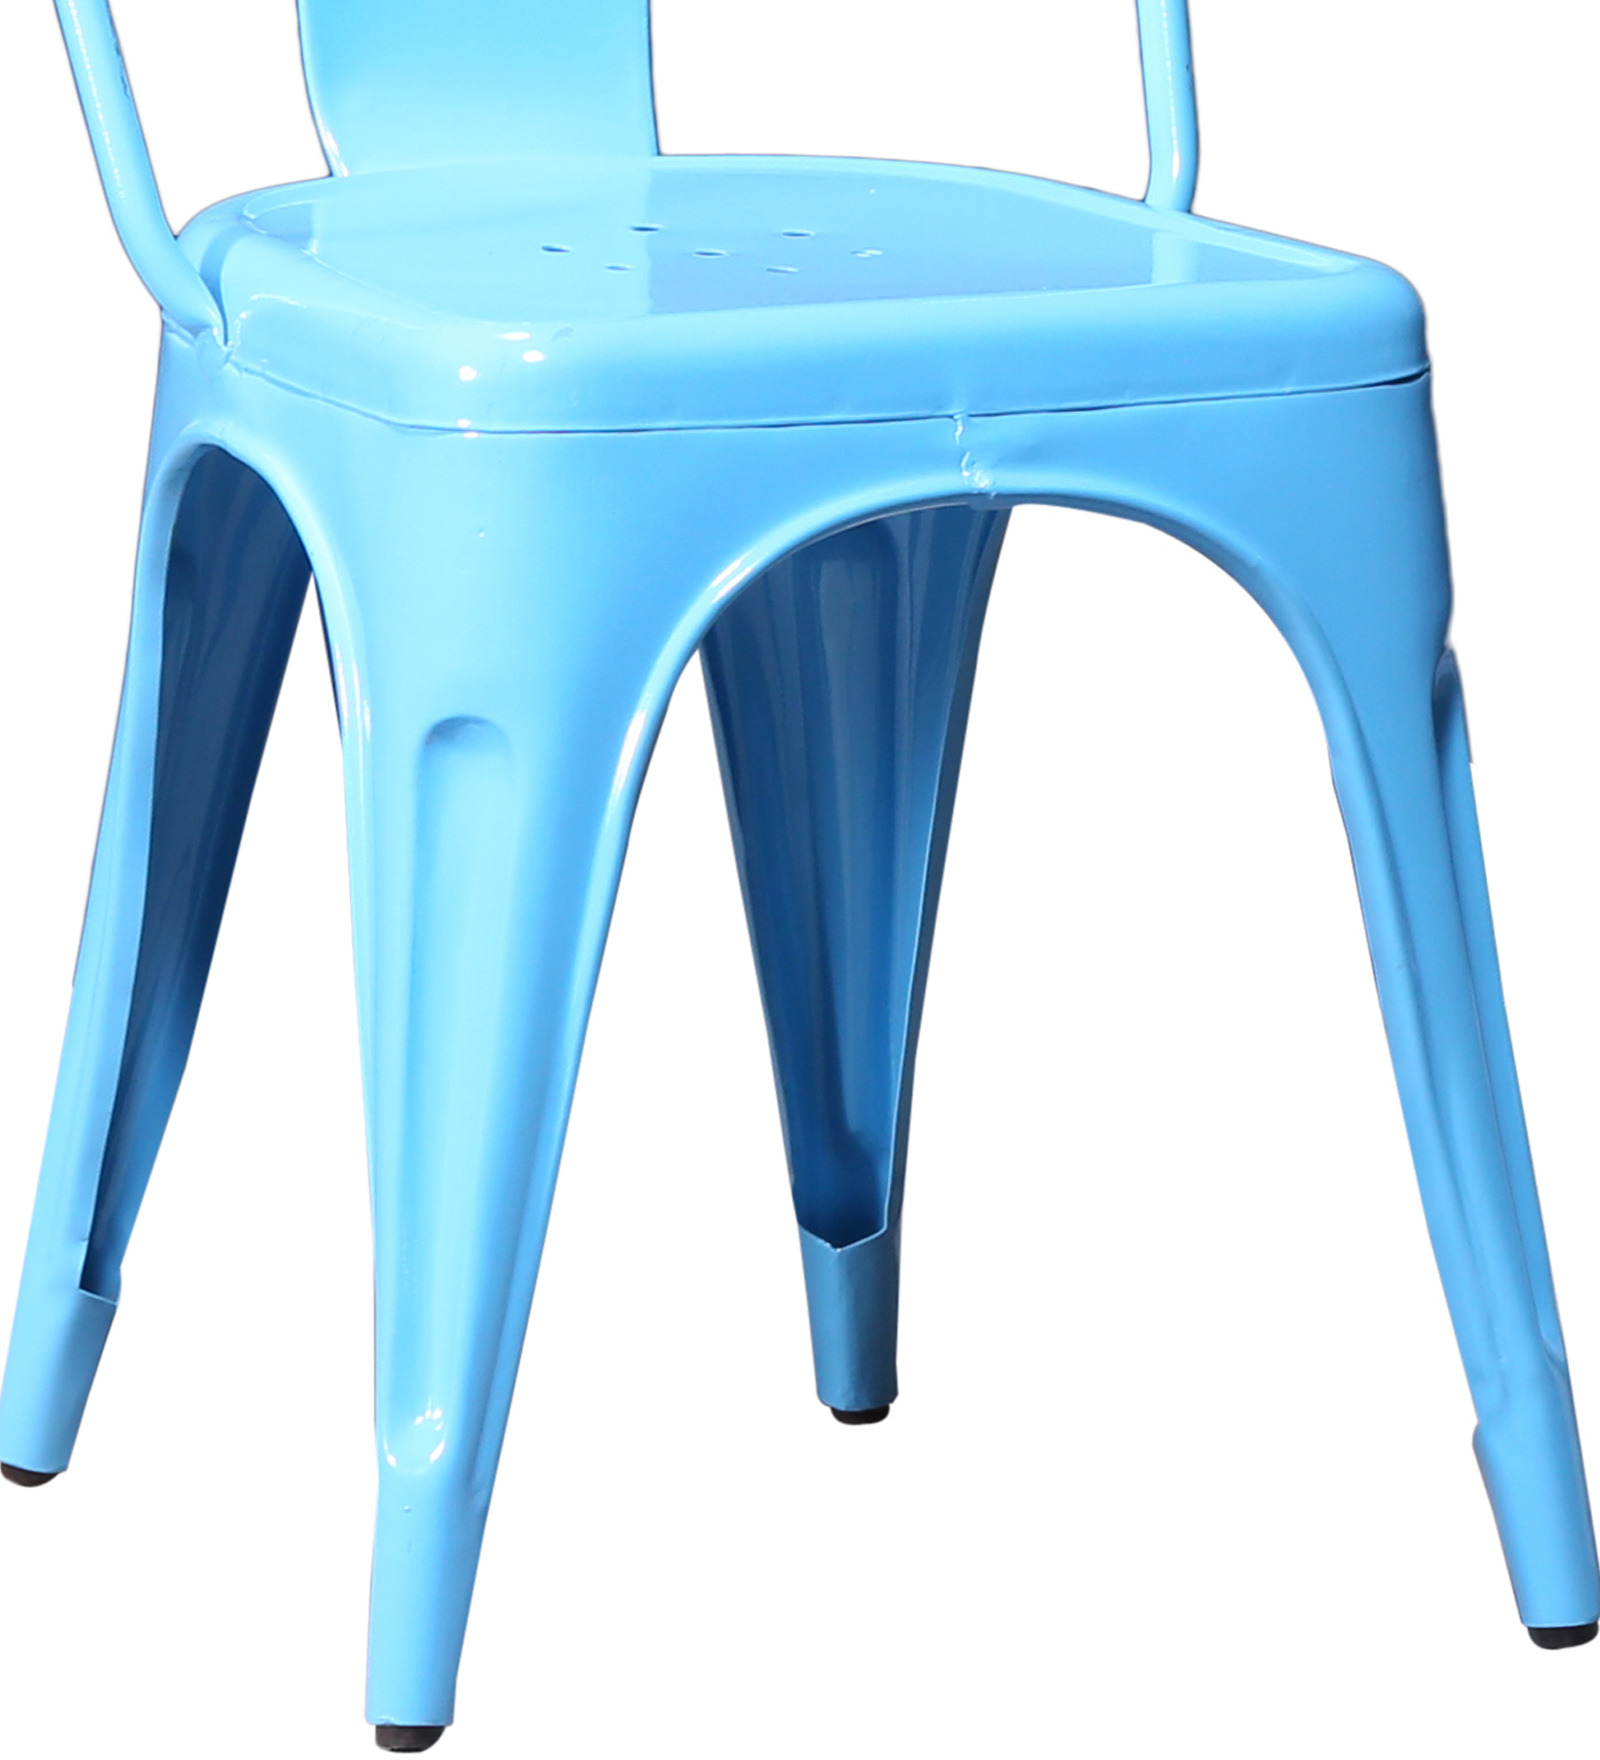Ekati Metal Chair in Blue Color by Bohemiana: (25, 5, 1594, 1760)
